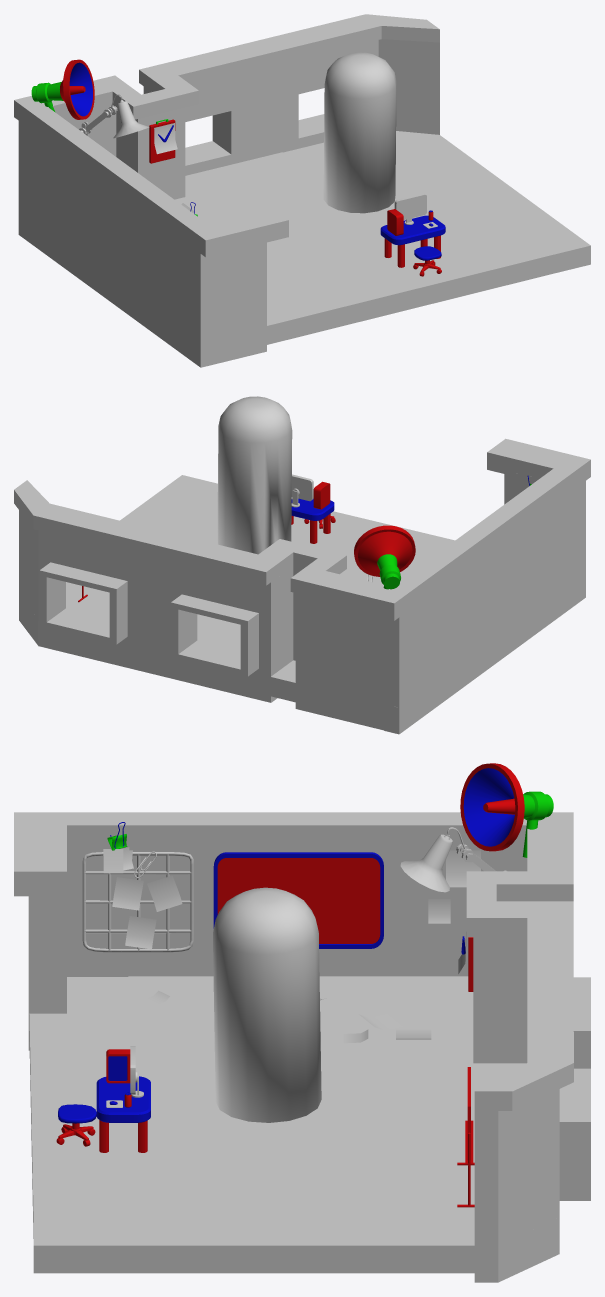
File: 기획방.fbx
3 views of the same model, one above another, from view 1: azimuth 30°, elevation 25°; view 2: azimuth 150°, elevation 25°; view 3: azimuth 270°, elevation 25° (orthographic). The views are drawn at different scales.
Visible parts, largest first — view 1: d_floor2_L, design wall3_L, design wall4_L, d_glass_L, design wall2_L, design wall1_L, loud speaker_L, d_desk_L.002_L, design lamp_L, computer_L.002, d_board2_L, design chair_L (+1 smaller); view 2: design wall4_L, design wall3_L, design wall2_L, d_floor2_L, d_glass_L, design wall1_L, loud speaker_L, d_desk_L.002_L, computer_L.002; view 3: d_floor2_L, design wall3_L, design wall4_L, d_glass_L, design wall1_L, design wall2_L, d_board_L, loud speaker_L, design paper_L.003, D_Wire_L, d_desk_L.002_L, design lamp_L (+4 smaller).
Boxes of the visible parts, x1,y1,x2,y2 form: d_floor2_L: [175, 131, 590, 344]; design wall3_L: [18, 121, 266, 367]; design wall4_L: [62, 39, 439, 199]; d_glass_L: [323, 52, 396, 213]; design wall2_L: [43, 14, 439, 119]; design wall1_L: [14, 95, 288, 257]; loud speaker_L: [31, 59, 94, 119]; d_desk_L.002_L: [380, 215, 445, 267]; design lamp_L: [79, 94, 149, 138]; computer_L.002: [394, 193, 426, 224]; d_board2_L: [149, 119, 175, 163]; design chair_L: [413, 246, 441, 276]; design wall4_L: [19, 510, 384, 730]; design wall3_L: [384, 470, 585, 734]; design wall2_L: [14, 480, 387, 613]; d_floor2_L: [19, 475, 454, 727]; d_glass_L: [217, 396, 292, 554]; design wall1_L: [375, 438, 590, 620]; loud speaker_L: [354, 525, 415, 589]; d_desk_L.002_L: [291, 498, 334, 543]; computer_L.002: [291, 474, 313, 507]; d_floor2_L: [29, 976, 559, 1273]; design wall3_L: [28, 850, 527, 1050]; design wall4_L: [473, 937, 590, 1282]; d_glass_L: [213, 887, 321, 1122]; design wall1_L: [14, 812, 573, 896]; design wall2_L: [466, 825, 573, 1110]; d_board_L: [213, 852, 383, 948]; loud speaker_L: [460, 763, 553, 857]; design paper_L.003: [103, 847, 480, 949]; D_Wire_L: [82, 852, 193, 952]; d_desk_L.002_L: [96, 1076, 150, 1152]; design lamp_L: [400, 827, 506, 892].
Size of the model in its own units: 1141 by 997 by 531.
